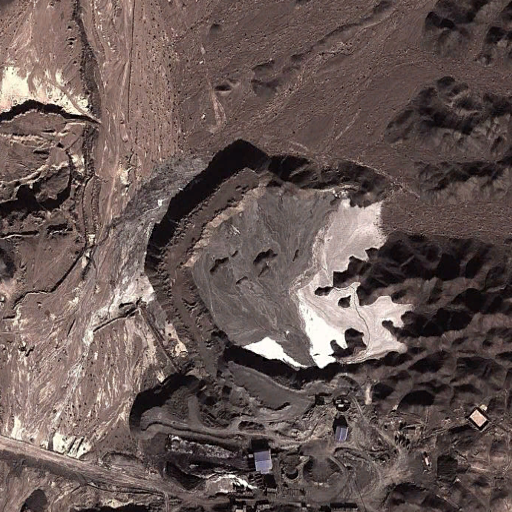tp: (191, 178, 410, 368)
